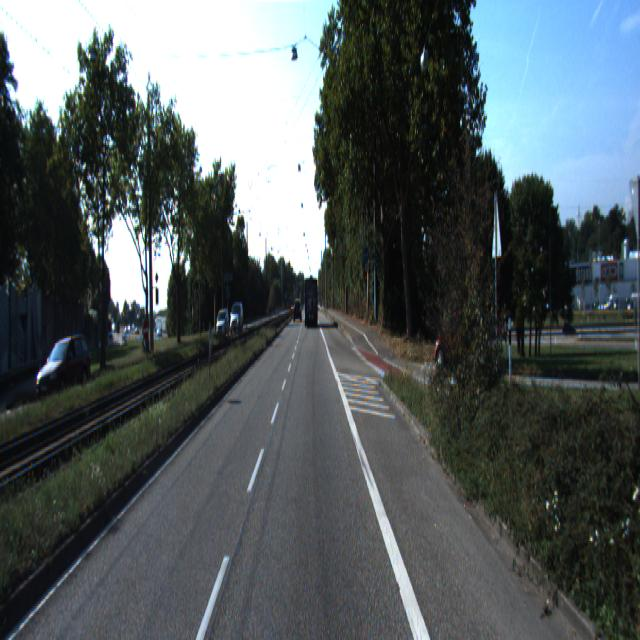Car: (35, 336, 94, 400), (434, 306, 489, 374), (216, 311, 230, 339)
DontCare: (230, 300, 243, 331), (291, 295, 300, 320)
Truck: (304, 277, 318, 328)
